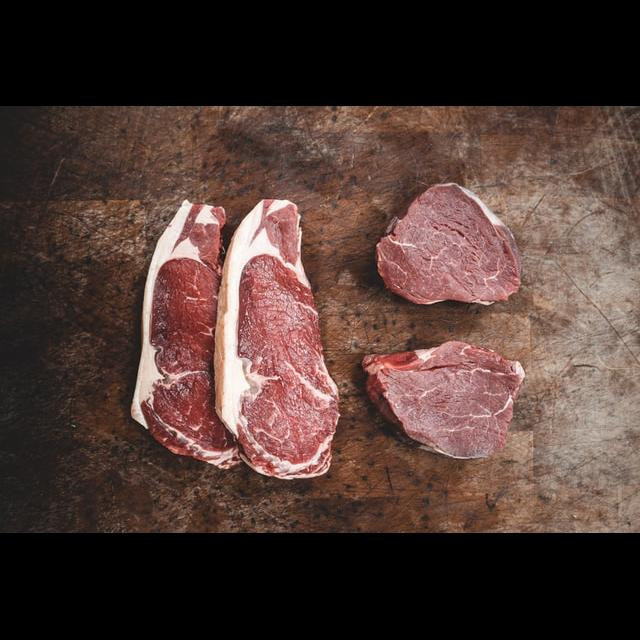beef: (213, 197, 342, 482), (128, 199, 241, 469), (360, 339, 526, 463), (375, 181, 522, 308)
